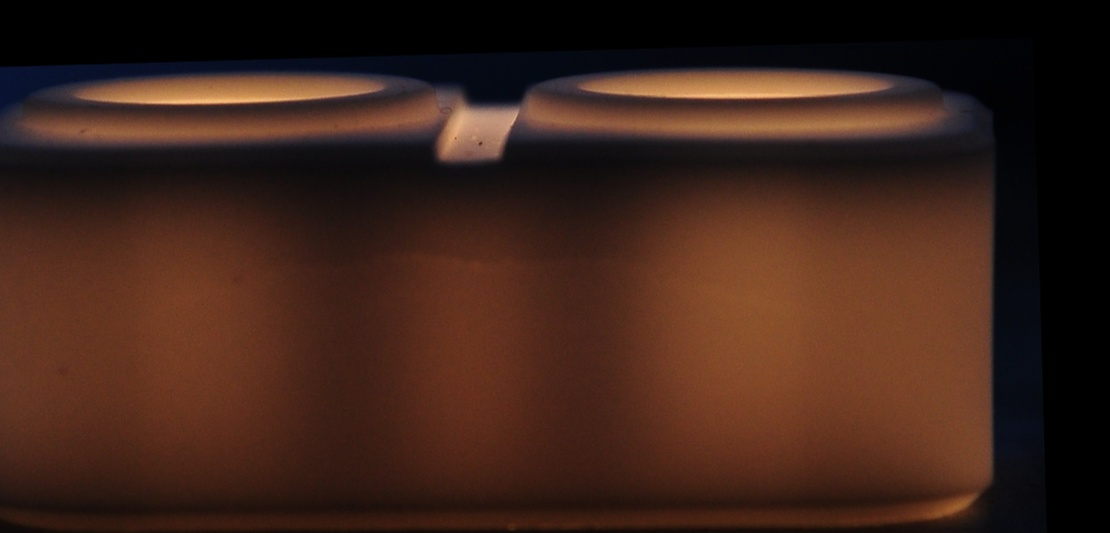flaw: (143, 237, 810, 321)
